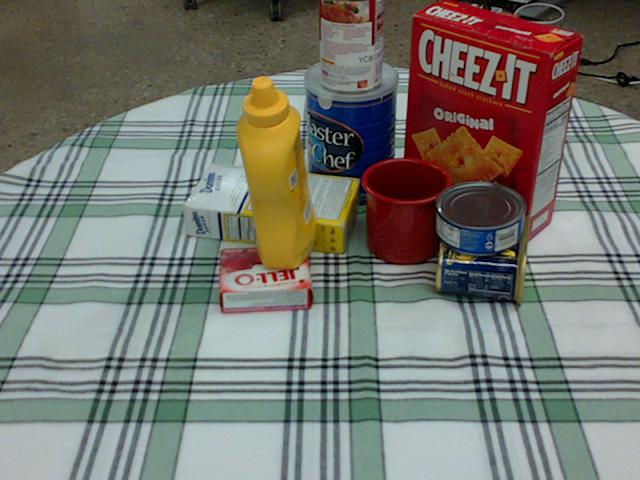cracker_box: (401, 0, 585, 241)
gelatin_box: (219, 246, 312, 312)
master_chef_can: (304, 57, 398, 208)
mug: (362, 157, 454, 264)
mustard_bottle: (236, 75, 315, 269)
potted_meat_can: (435, 205, 532, 300)
sugar_box: (181, 162, 360, 253)
tomato_soup_can: (319, 0, 384, 93)
tuna_fish_can: (435, 182, 525, 254)
